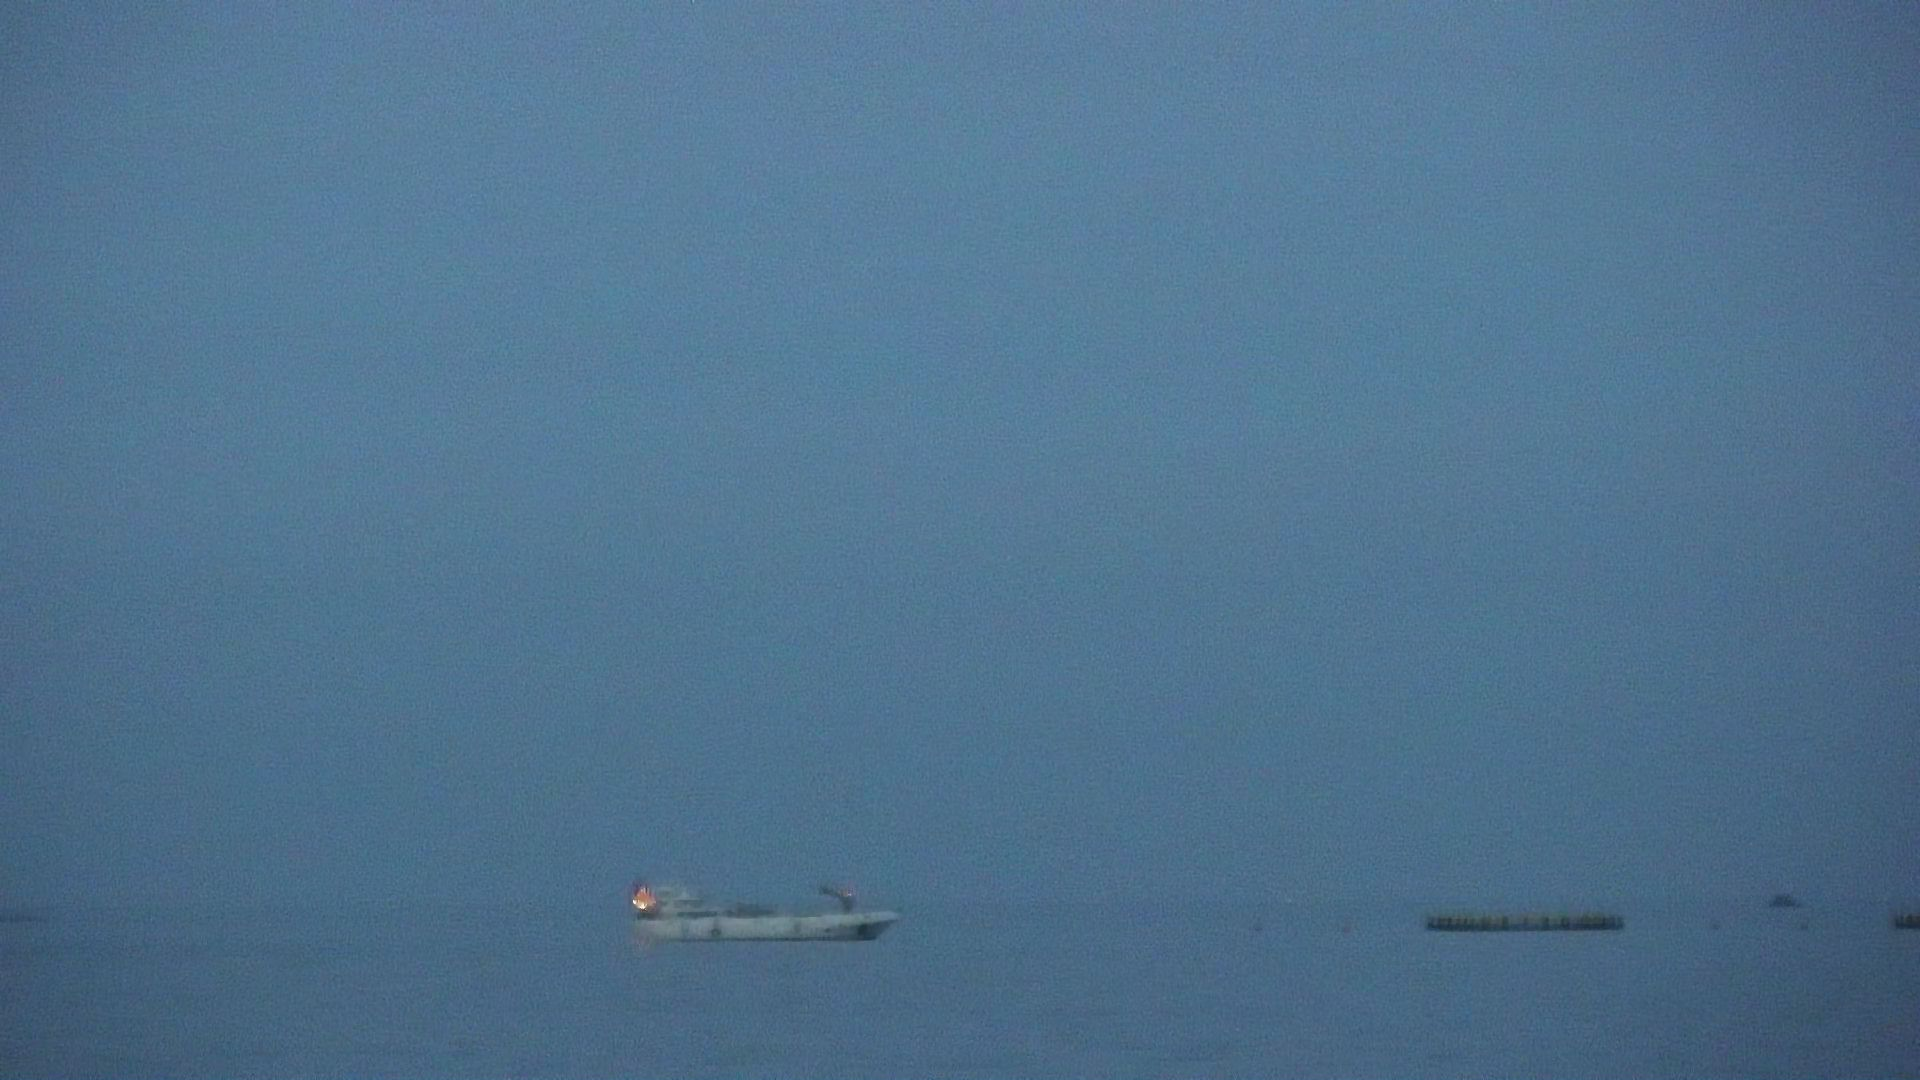platform: (1431, 905, 1625, 942)
ship: (616, 860, 916, 953)
